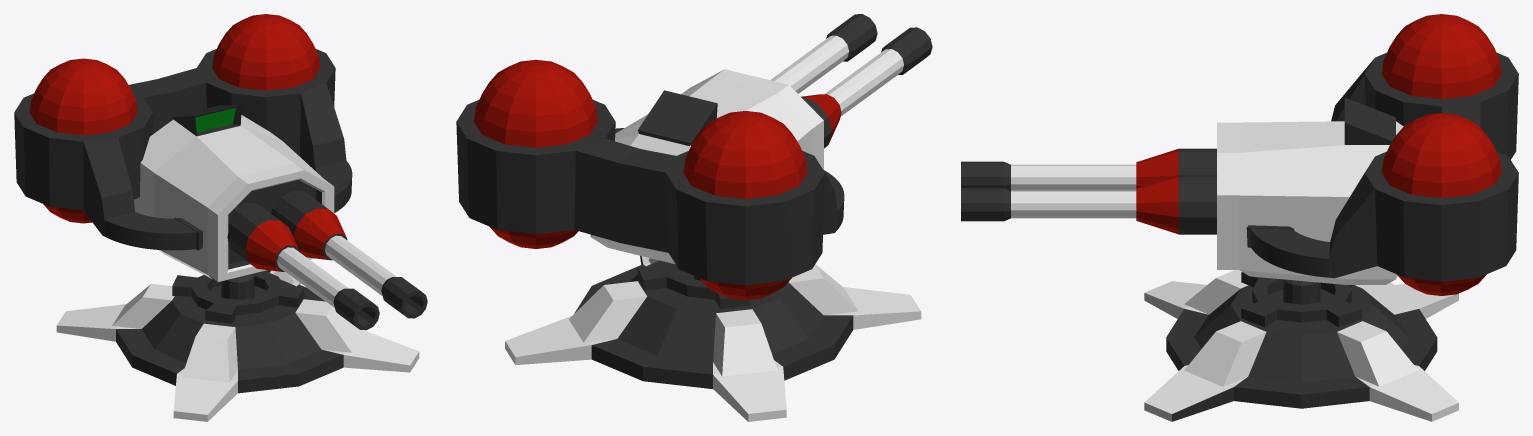
The model's file is Ground_Turret.fbx.
The picture shows the model from 3 angles, left to right: view 1: azimuth 30°, elevation 25°; view 2: azimuth 150°, elevation 25°; view 3: azimuth 270°, elevation 25°; orthographic projection. The views are drawn at different scales.
Parts seen in each view (by area): view 1: Body, Base, BarrelRight, BarrelLeft; view 2: Body, Base, BarrelRight, BarrelLeft; view 3: Body, Base, BarrelLeft, BarrelRight.
Part boxes in pixels (bbox=[...]): Body: bbox=[14, 14, 352, 281]; Base: bbox=[56, 270, 419, 421]; BarrelRight: bbox=[227, 202, 379, 330]; BarrelLeft: bbox=[271, 191, 427, 318]; Body: bbox=[456, 59, 844, 300]; Base: bbox=[505, 255, 921, 421]; BarrelRight: bbox=[801, 27, 932, 148]; BarrelLeft: bbox=[770, 14, 877, 93]; Body: bbox=[1217, 14, 1518, 295]; Base: bbox=[1144, 270, 1458, 421]; BarrelLeft: bbox=[961, 174, 1216, 234]; BarrelRight: bbox=[961, 148, 1216, 190].
Bounding box in the file's own units: 200 × 163 × 287.
